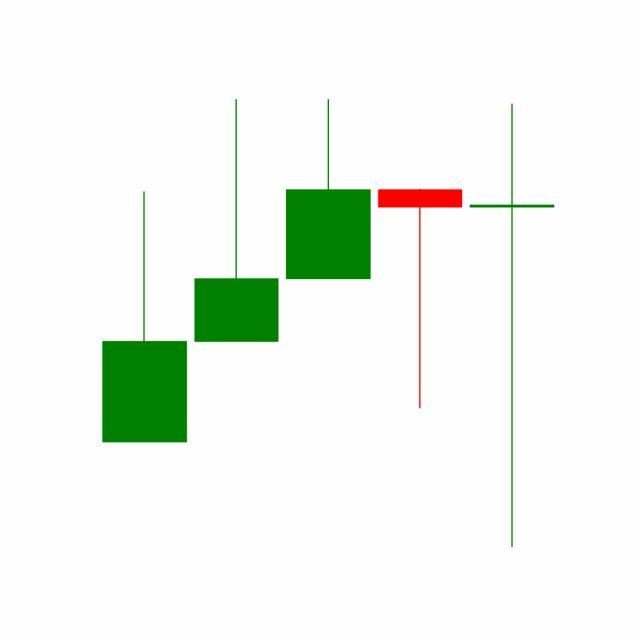Spinning Top: (466, 99, 559, 553)
